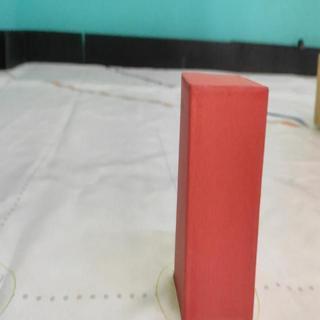redbox: (177, 72, 269, 320)
